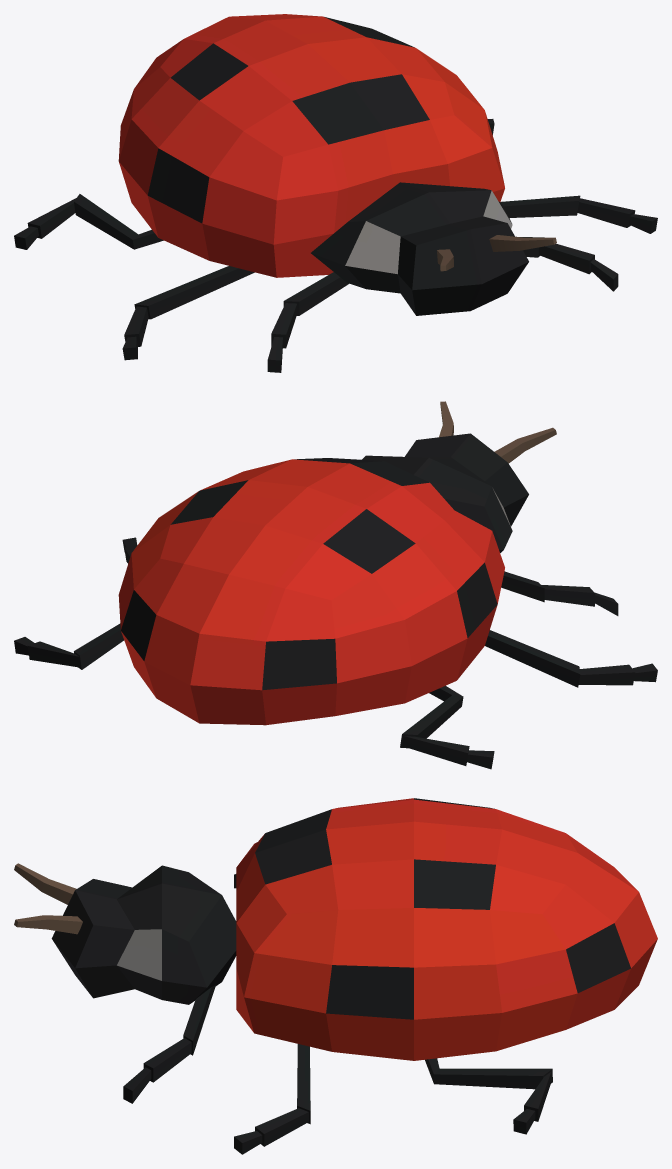
Rendered from 4K7V5f9ntfu.glb.
3 views of the same model, one above another, from view 1: azimuth 30°, elevation 25°; view 2: azimuth 150°, elevation 25°; view 3: azimuth 270°, elevation 25° (orthographic). The views are drawn at different scales.
Visible parts, largest first — view 1: Geo_Ladybug; view 2: Geo_Ladybug; view 3: Geo_Ladybug.
Part boxes in pixels (x1,y1,x2,y2): Geo_Ladybug: (14,14,657,372); Geo_Ladybug: (14,401,657,769); Geo_Ladybug: (14,798,657,1154).
Size of the model in its own units: 2.93 by 0.9999 by 2.94.
1 material, 1 textured.
